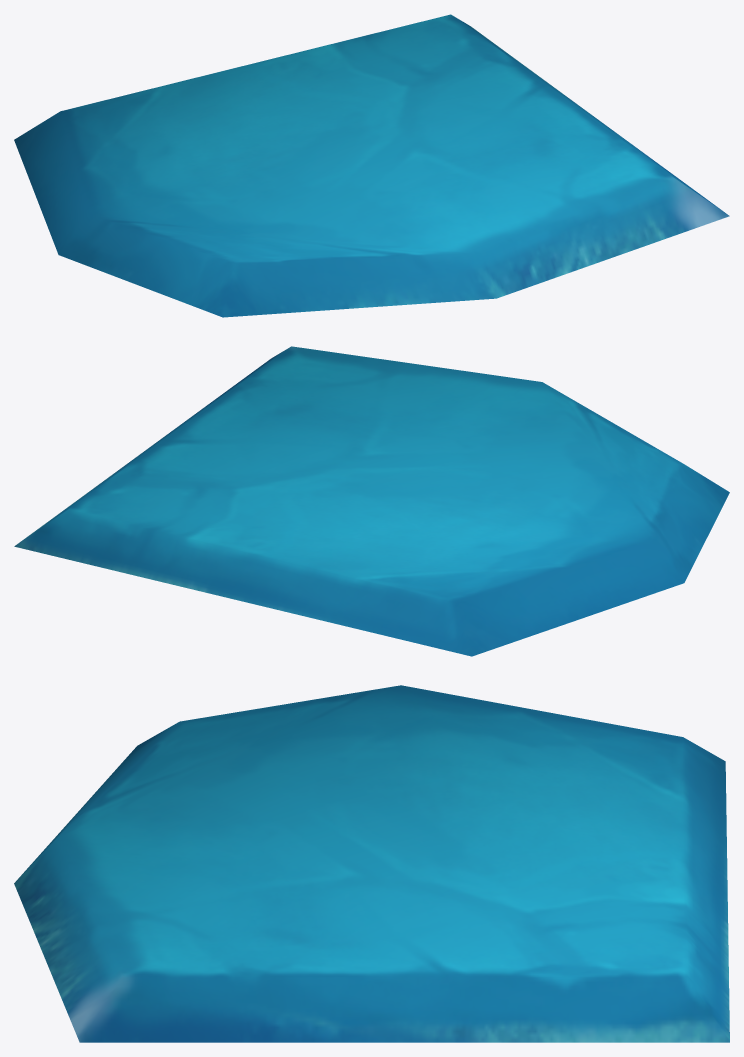
The model's file is BingYingZhong_Bing_11.fbx.
The picture shows the model from 3 angles, top to bottom: view 1: azimuth 30°, elevation 25°; view 2: azimuth 150°, elevation 25°; view 3: azimuth 270°, elevation 25°; orthographic projection. The views are drawn at different scales.
Visible parts, largest first — view 1: BingYingZhong_Bing_11; view 2: BingYingZhong_Bing_11; view 3: BingYingZhong_Bing_11.
Boxes of the visible parts, left/top/right/bottom form: BingYingZhong_Bing_11: left=14, top=14, right=729, bottom=317; BingYingZhong_Bing_11: left=14, top=346, right=729, bottom=656; BingYingZhong_Bing_11: left=14, top=685, right=729, bottom=1042.
Size of the model in its own units: 304 by 18 by 276.
